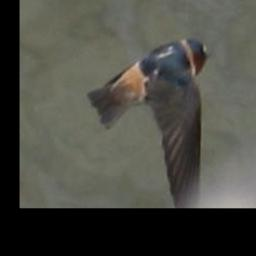Swallow: (86, 30, 213, 207)
